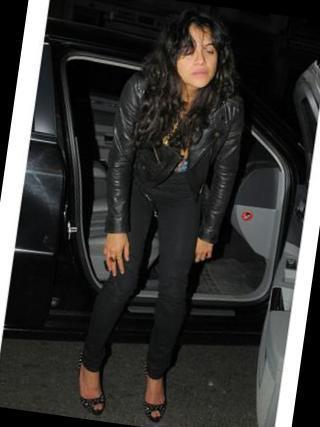Drunk: (177, 29, 217, 86)
